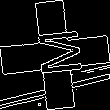M_W: (28, 30, 82, 80)
